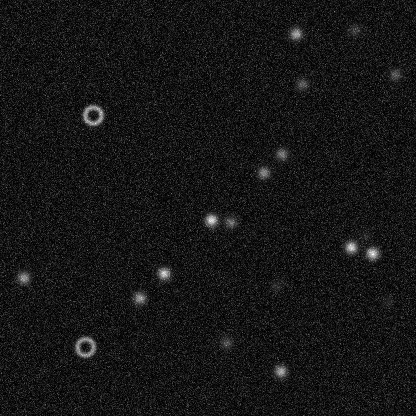Ring: (80, 103, 104, 127), (73, 334, 97, 358)
Spot: (287, 25, 303, 41), (203, 211, 219, 227), (272, 363, 288, 379), (255, 164, 271, 180), (218, 334, 234, 350), (357, 227, 373, 243), (15, 269, 31, 285), (364, 245, 380, 261), (387, 66, 403, 82), (294, 76, 310, 92), (267, 277, 283, 293), (346, 22, 362, 38), (379, 293, 395, 309), (273, 146, 289, 162), (342, 239, 358, 255), (155, 265, 171, 281), (131, 289, 147, 305), (222, 214, 238, 230)
